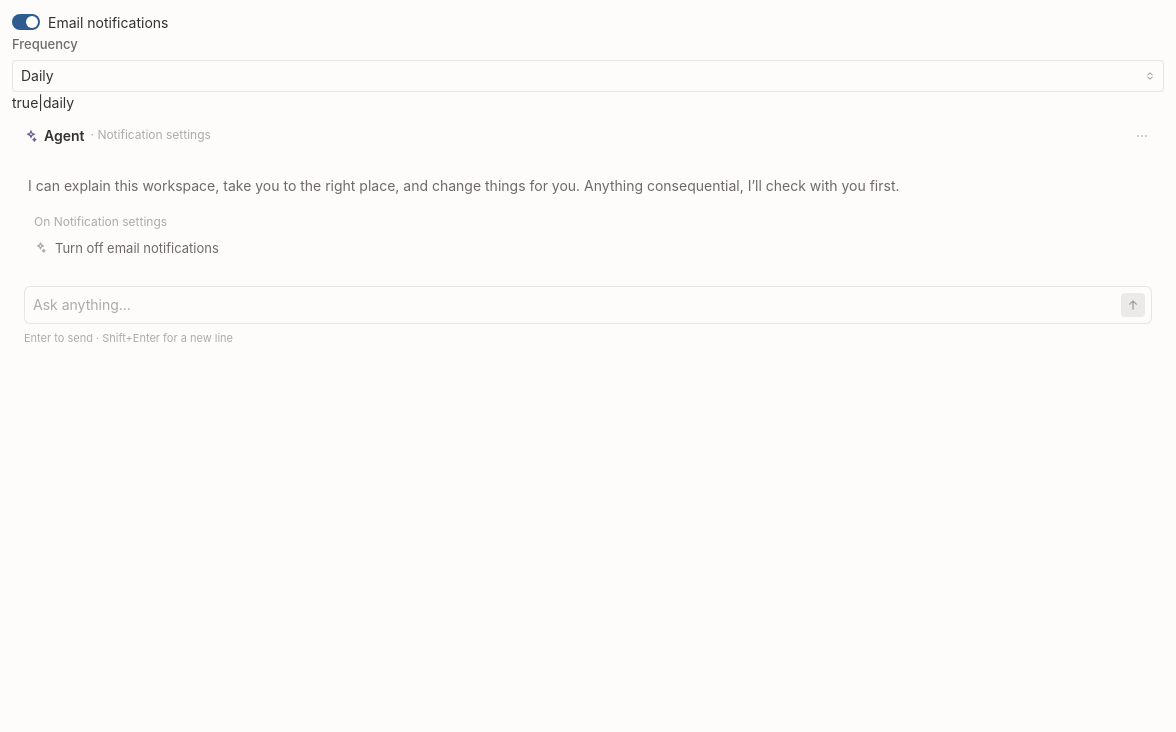
Test case: agent-operated UI › asks in the chat before a confirmed action, and applies it on confirm
Type "turn off email" into the text box named "Message the agent" at (574, 305), box [33,293,1115,317]
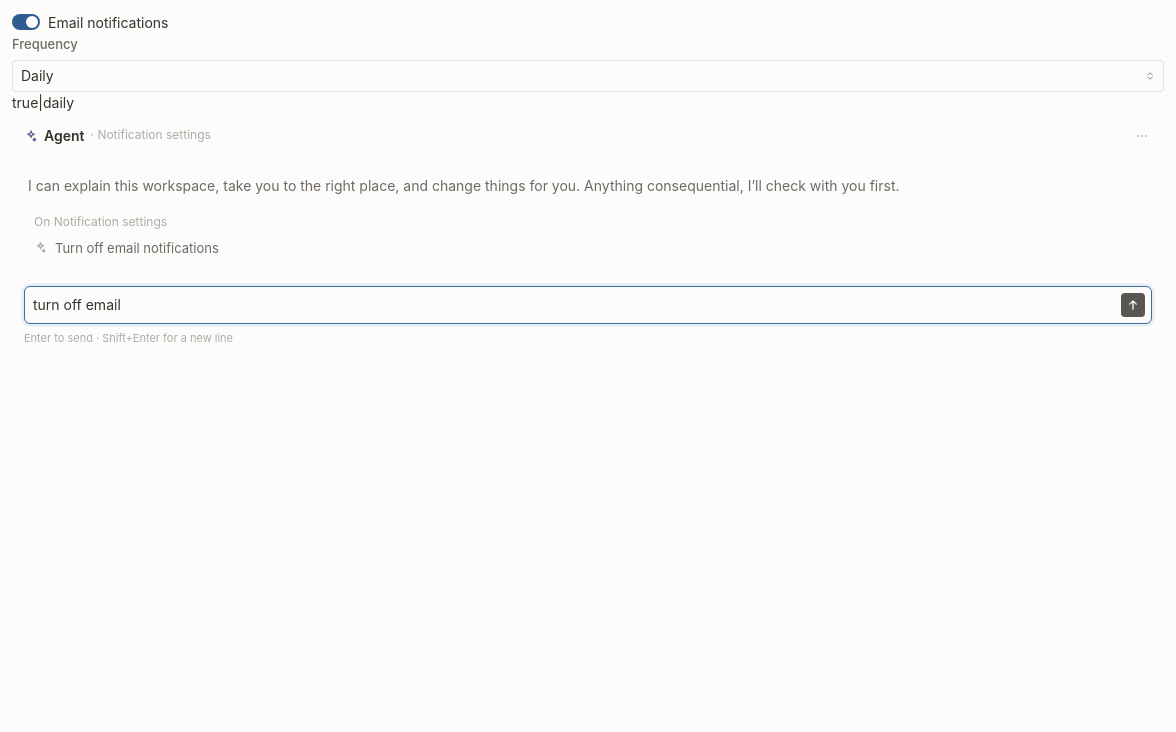
Click the button named "Send" at (1133, 305), box [1121,293,1145,317]
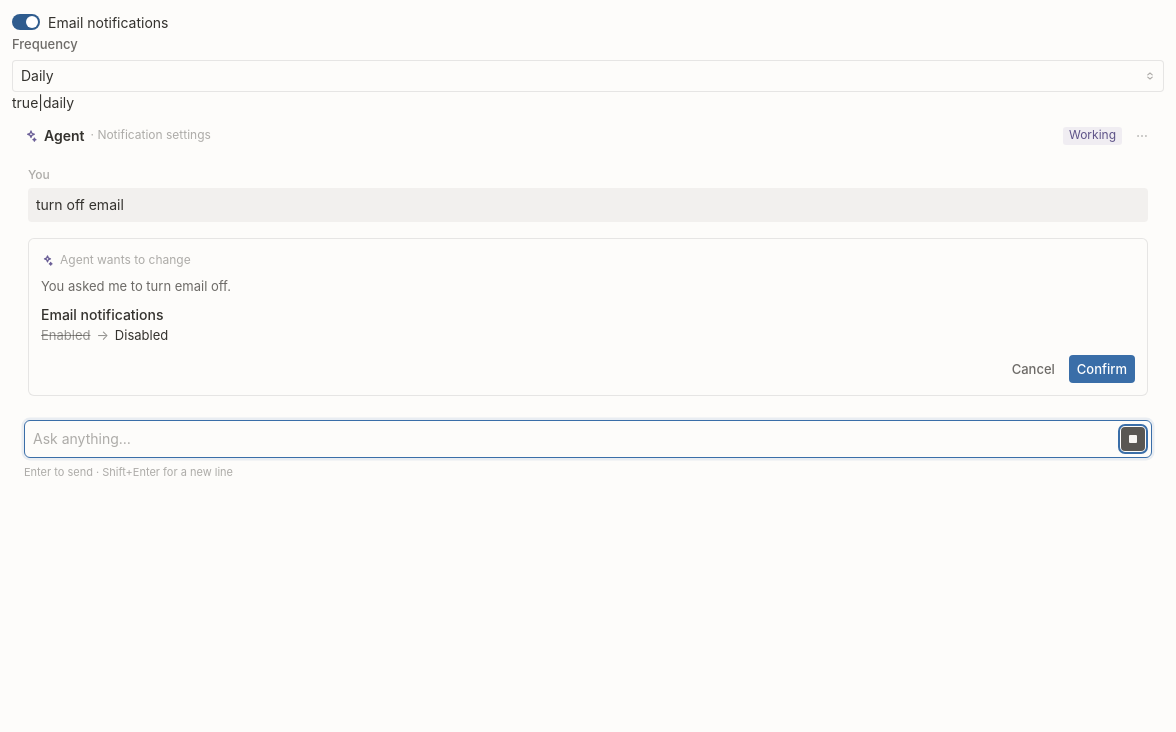
Expected: the text "Email notifications" below "You asked me to turn email off." is shown, [41,306,164,323]
Expected: the text "Enabled" is shown, [41,325,90,345]
Expected: the text "Disabled" is shown, [115,325,168,345]
Click the button "Confirm" at (1102, 369), box [1069,355,1135,383]
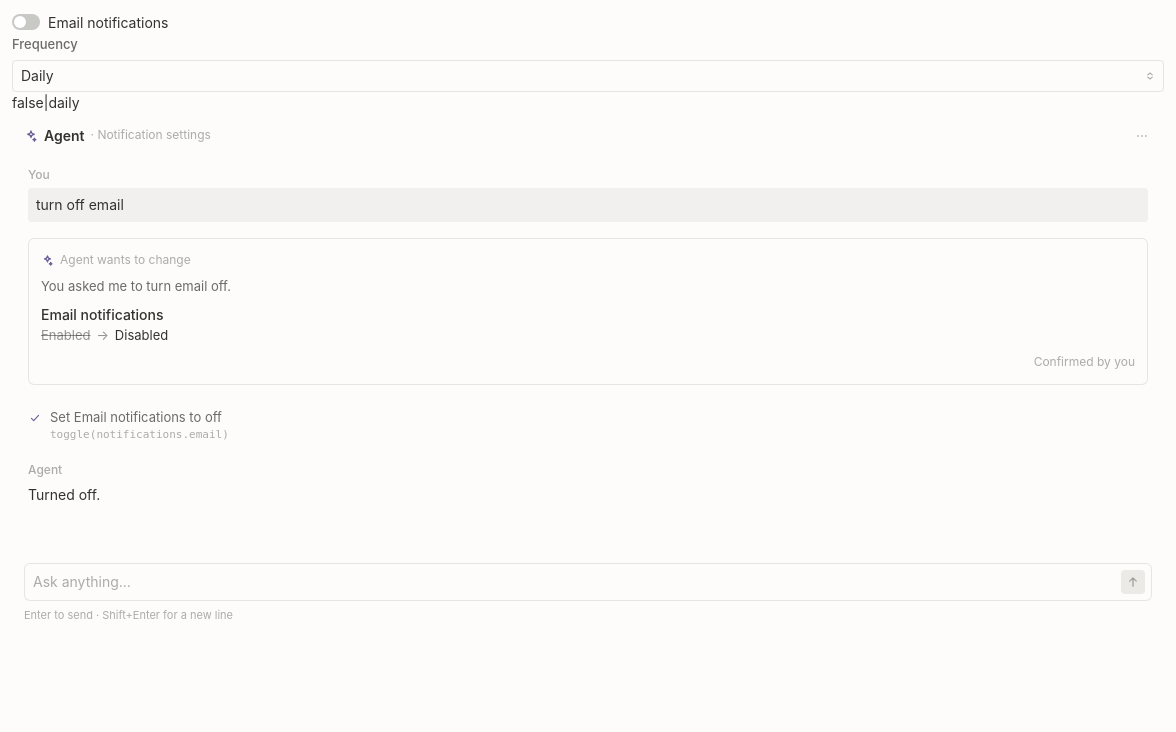
Expected: the text with test id "probe" reads "false|daily", [12,94,80,111]
Expected: the text "Turned off." is shown, [28,486,100,503]
